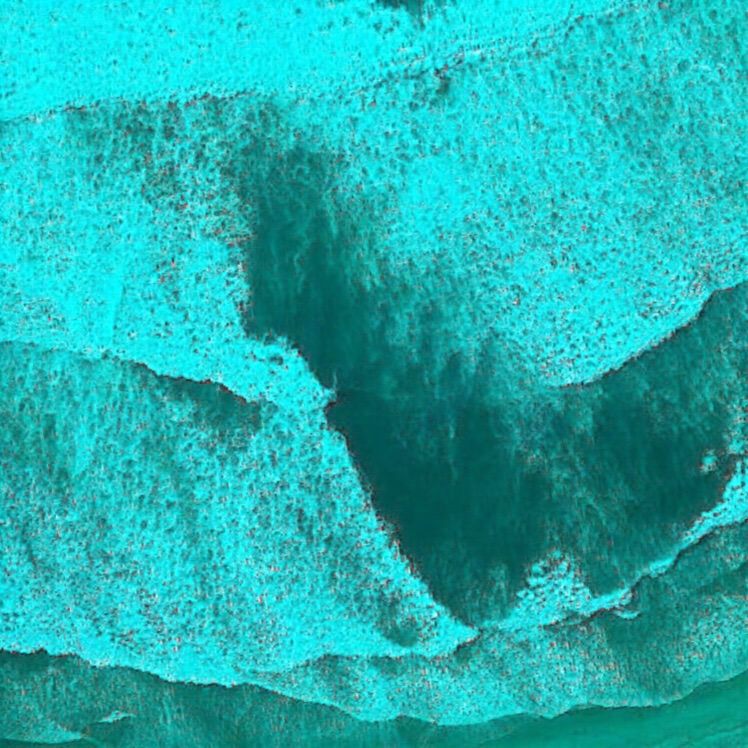rip_current: (120, 89, 603, 645)
